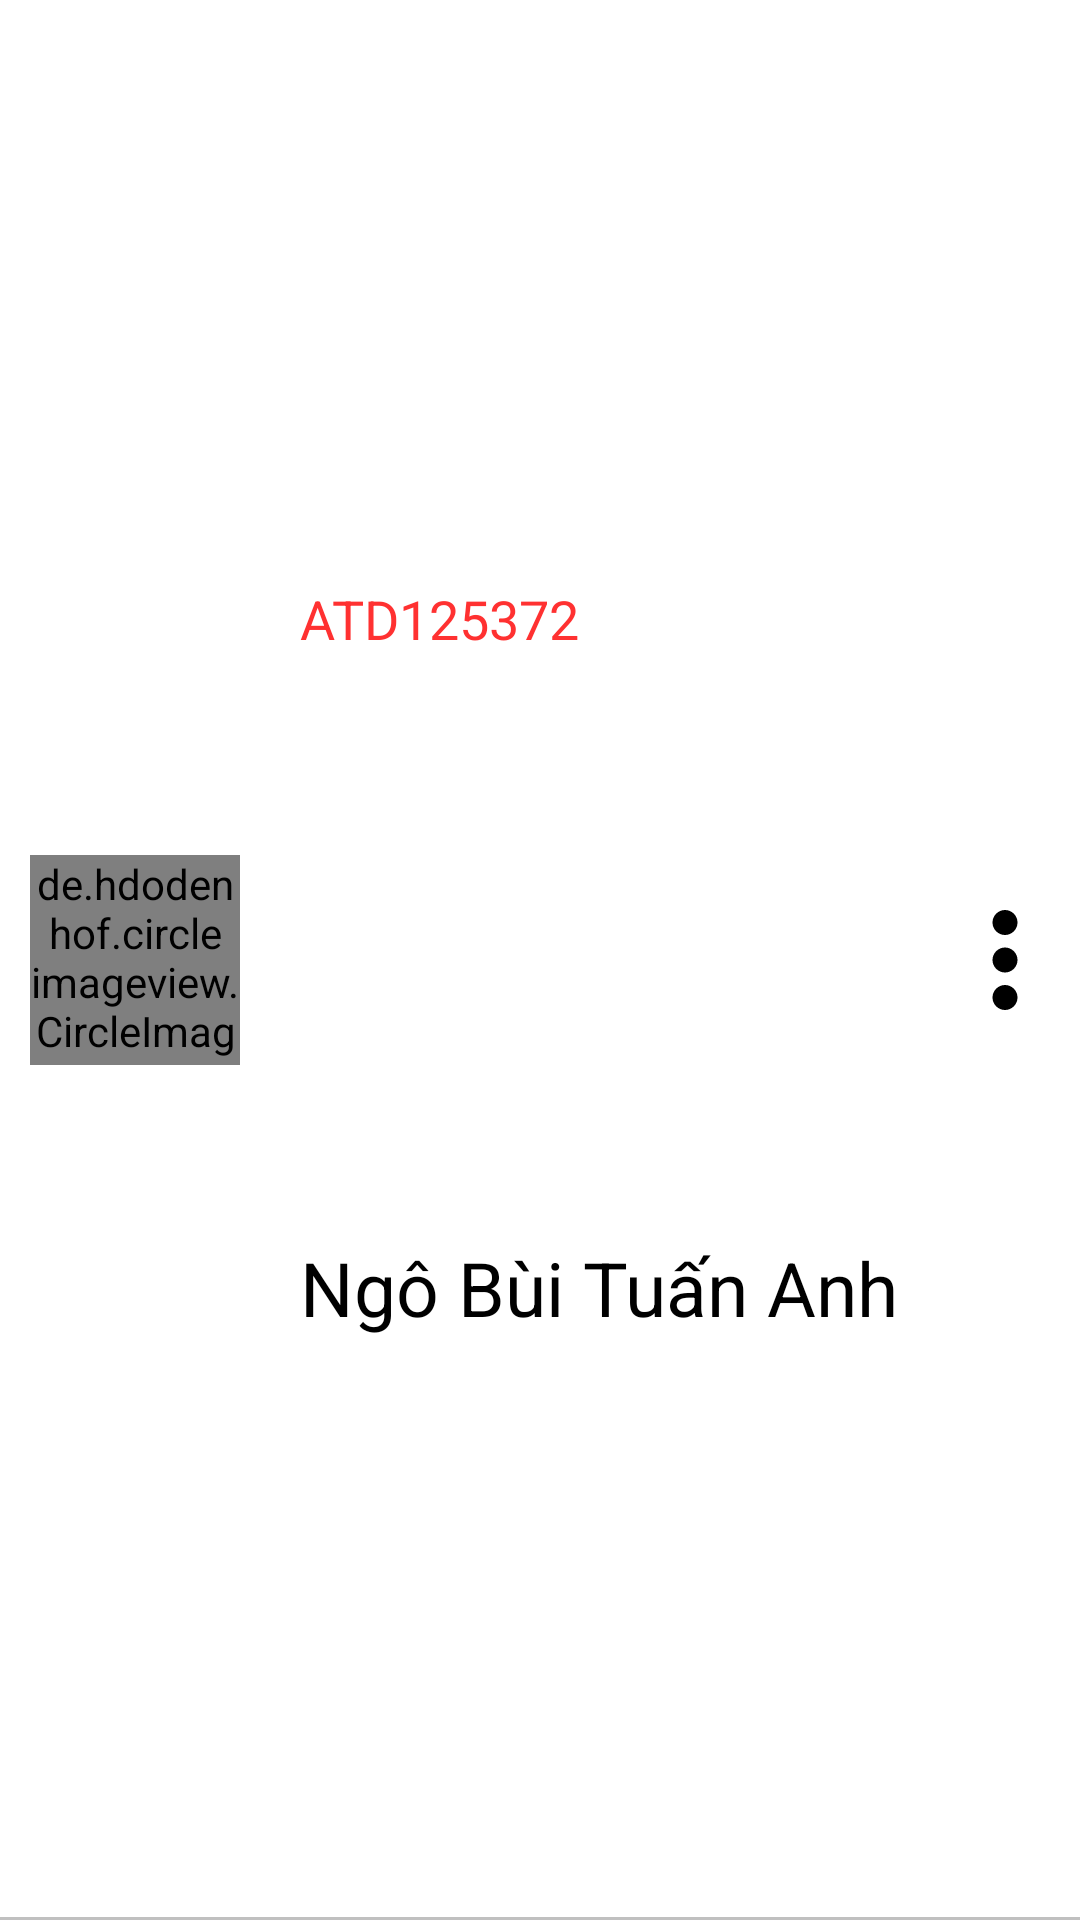

Icon bounding boxes for this 1080*1920 phone screenshot, format (x1, y1, x2, y2):
more: (992, 910, 1018, 1010)
